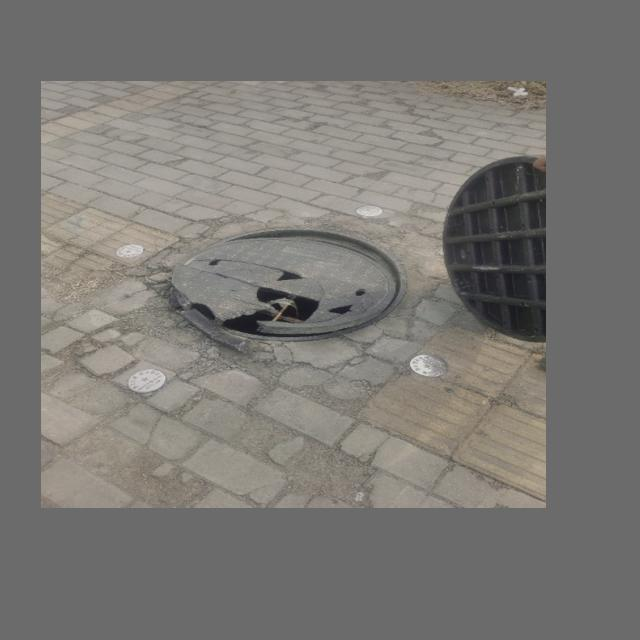broke: (170, 226, 408, 341)
